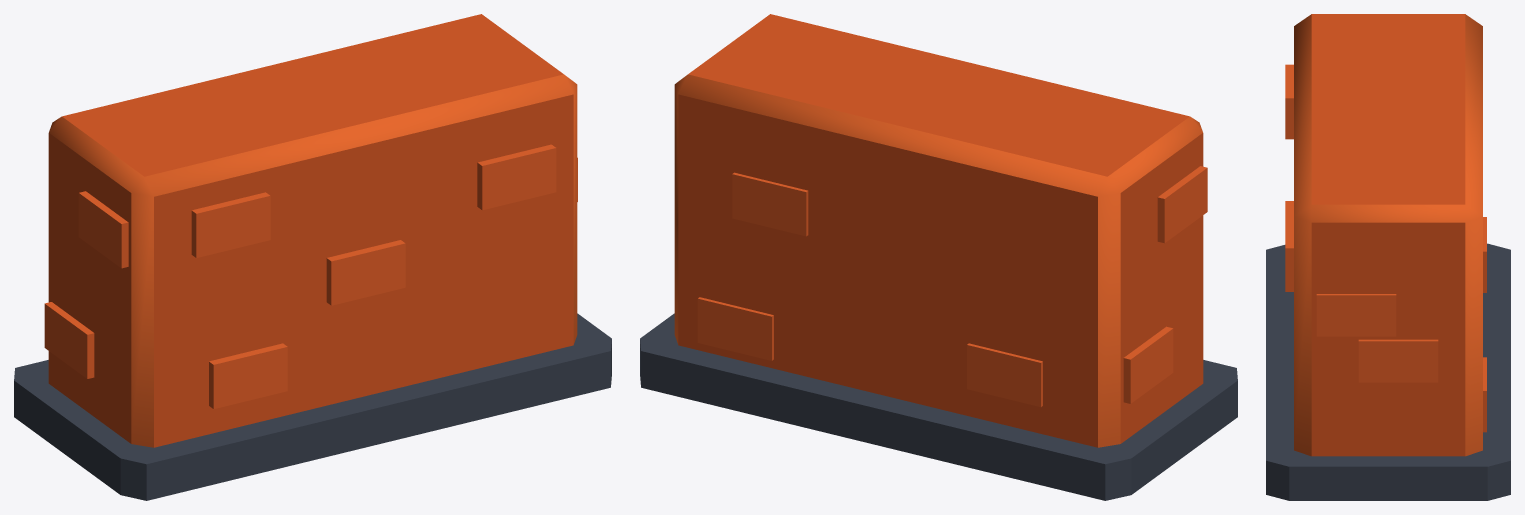
File: ChimneyWall_2_B.fbx
3 renders of one model, left to right at view 1: azimuth 30°, elevation 25°; view 2: azimuth 150°, elevation 25°; view 3: azimuth 270°, elevation 25°, orthographic. The views are drawn at different scales.
Parts seen in each view (by area): view 1: ChimneyWall_2_B; view 2: ChimneyWall_2_B; view 3: ChimneyWall_2_B.
Part boxes in pixels (left/top/right/bottom): ChimneyWall_2_B: left=14, top=14, right=611, bottom=500; ChimneyWall_2_B: left=640, top=14, right=1237, bottom=500; ChimneyWall_2_B: left=1266, top=14, right=1510, bottom=500.
Size of the model in its own units: 244 by 143 by 113.
